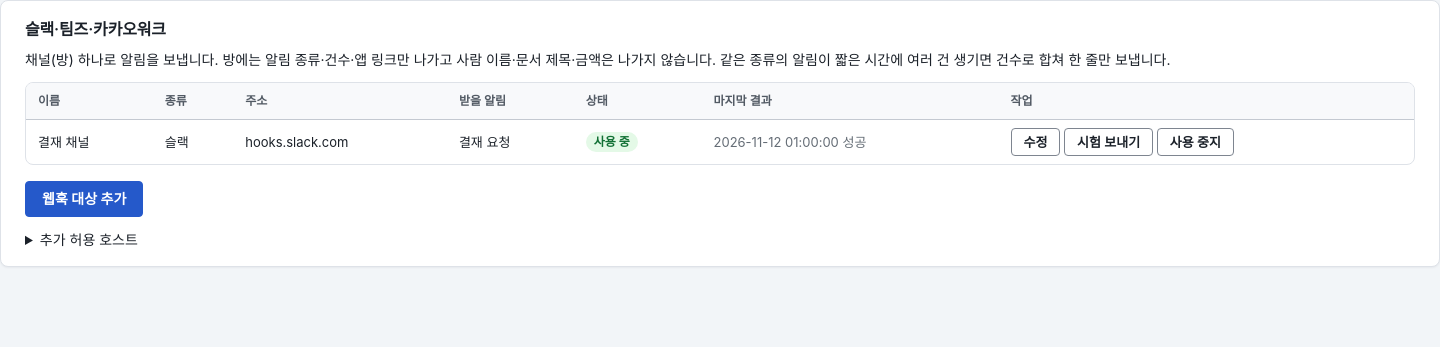
Test: 웹훅 대상 관리 › 시험 보내기 실패는 서버 문구를 그대로 보인다
Check: the text "결재 채널" is shown, box [26,119,153,164]
Click the button "시험 보내기" at (1109, 142), box [1064,128,1153,156]
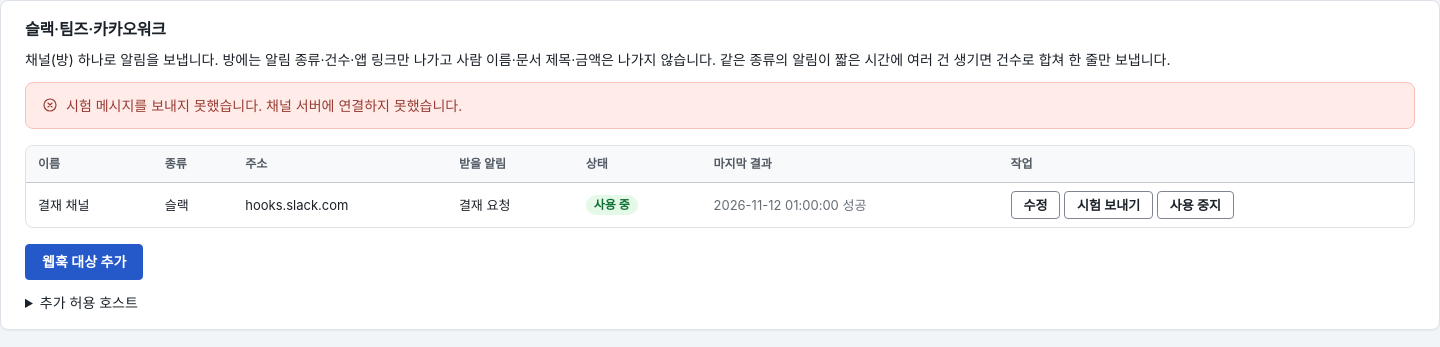
Check: the text "시험 메시지를 보내지 못했습니다. 채널 서버에 연결하지 못했습니다." is shown, box [66,95,462,116]
